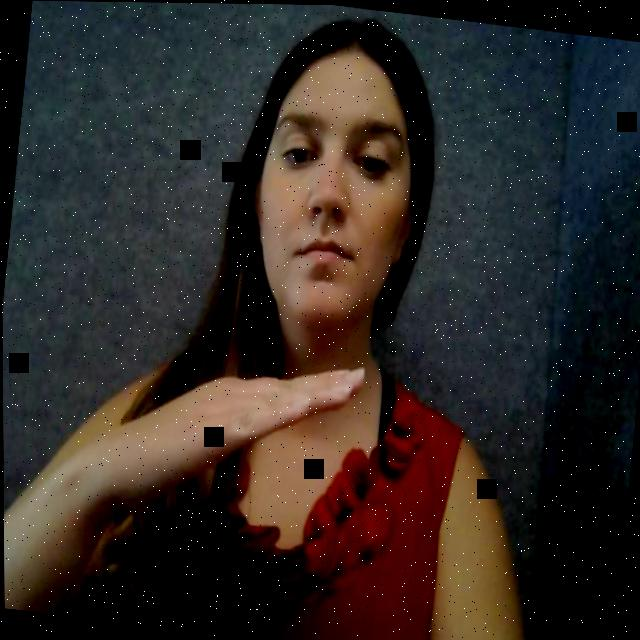Paper: (98, 313, 371, 515)
